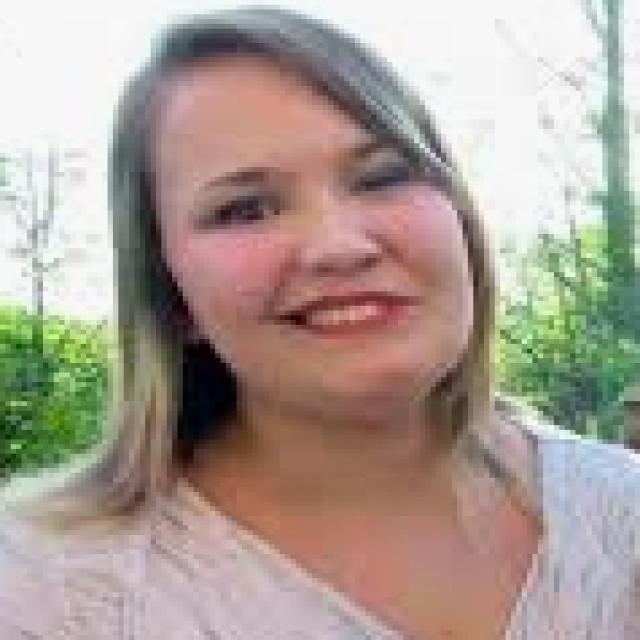stroke_face: (139, 63, 514, 427)
